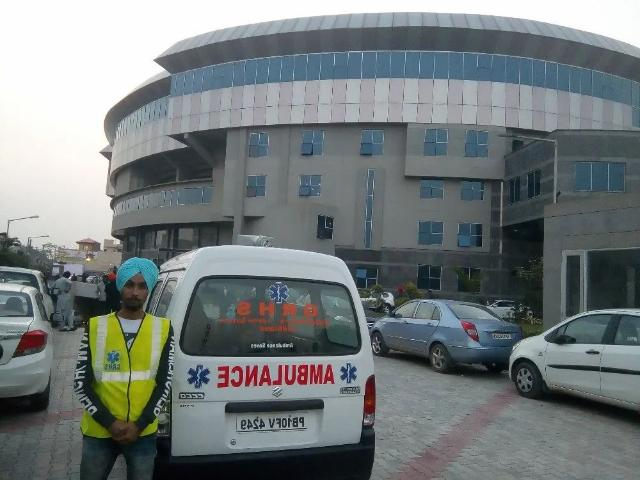ambulance: (133, 246, 380, 474)
